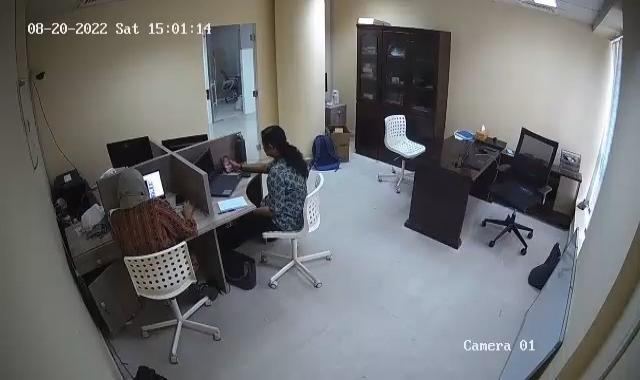no_apron: (222, 152, 258, 176), (176, 196, 199, 226)
no_gloves: (253, 122, 298, 164), (116, 166, 152, 208)
no_hairnet: (256, 138, 282, 163)
